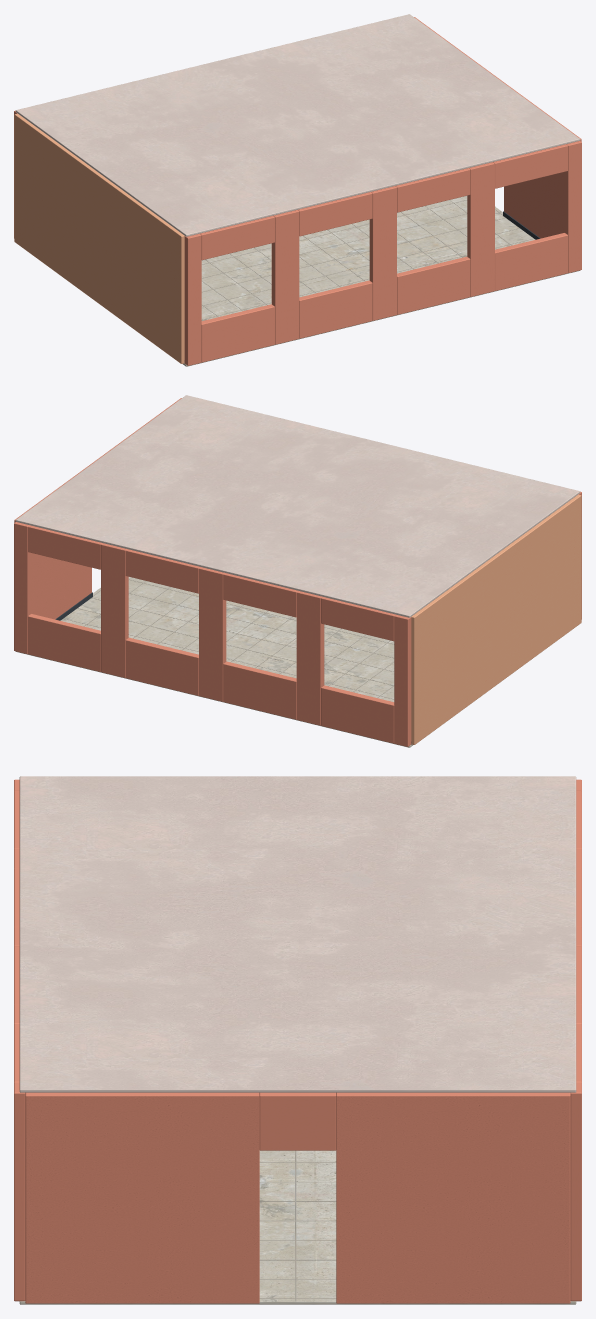
File: cl-floor-walls.glb
3 renders of one model, top to bottom at view 1: azimuth 30°, elevation 25°; view 2: azimuth 150°, elevation 25°; view 3: azimuth 270°, elevation 25°, orthographic. The views are drawn at different scales.
Parts seen in each view (by area): view 1: cl-floor-walls_ceiling, cl-floor-walls_wall_west, cl-floor-walls_floor, cl-floor-walls_wall_s_pier2, cl-floor-walls_wall_s_pier4, cl-floor-walls_wall_s_pier3, cl-floor-walls_wall_east_south, cl-floor-walls_wall_s_sill2, cl-floor-walls_wall_s_sill1, cl-floor-walls_wall_s_sill3, cl-floor-walls_wall_s_sill4, cl-floor-walls_wall_s_pier1 (+5 smaller); view 2: cl-floor-walls_ceiling, cl-floor-walls_wall_west, cl-floor-walls_floor, cl-floor-walls_wall_n_pier2, cl-floor-walls_wall_n_pier4, cl-floor-walls_wall_n_pier3, cl-floor-walls_wall_east_north, cl-floor-walls_wall_n_sill2, cl-floor-walls_wall_n_sill1, cl-floor-walls_wall_n_sill3, cl-floor-walls_wall_n_sill4, cl-floor-walls_wall_n_pier1 (+5 smaller); view 3: cl-floor-walls_ceiling, cl-floor-walls_wall_east_south, cl-floor-walls_wall_east_north, cl-floor-walls_floor, cl-floor-walls_wall_east_lintel, cl-floor-walls_wall_s_pier5, cl-floor-walls_wall_n_pier5.
Boxes of the visible parts, x1,y1,x2,y2 form: cl-floor-walls_ceiling: (15, 14, 580, 236); cl-floor-walls_wall_west: (14, 113, 184, 363); cl-floor-walls_floor: (183, 196, 579, 366); cl-floor-walls_wall_s_pier2: (271, 210, 299, 344); cl-floor-walls_wall_s_pier4: (467, 162, 494, 296); cl-floor-walls_wall_s_pier3: (369, 186, 396, 320); cl-floor-walls_wall_east_south: (504, 86, 581, 238); cl-floor-walls_wall_s_sill2: (299, 280, 372, 338); cl-floor-walls_wall_s_sill1: (201, 304, 274, 362); cl-floor-walls_wall_s_sill3: (397, 256, 470, 314); cl-floor-walls_wall_s_sill4: (495, 233, 567, 290); cl-floor-walls_wall_s_pier1: (184, 233, 201, 365); cl-floor-walls_ceiling: (15, 395, 580, 617); cl-floor-walls_wall_west: (411, 494, 581, 744); cl-floor-walls_floor: (16, 577, 412, 747); cl-floor-walls_wall_n_pier2: (296, 591, 324, 725); cl-floor-walls_wall_n_pier4: (101, 543, 128, 677); cl-floor-walls_wall_n_pier3: (199, 567, 226, 701); cl-floor-walls_wall_east_north: (14, 467, 91, 619); cl-floor-walls_wall_n_sill2: (223, 661, 296, 719); cl-floor-walls_wall_n_sill1: (321, 685, 394, 743); cl-floor-walls_wall_n_sill3: (125, 637, 198, 695); cl-floor-walls_wall_n_sill4: (28, 614, 100, 671); cl-floor-walls_wall_n_pier1: (394, 614, 411, 746); cl-floor-walls_ceiling: (19, 776, 576, 1092); cl-floor-walls_wall_east_south: (25, 1092, 259, 1303); cl-floor-walls_wall_east_north: (336, 1092, 570, 1303); cl-floor-walls_floor: (19, 1150, 576, 1304); cl-floor-walls_wall_east_lintel: (259, 1092, 336, 1150); cl-floor-walls_wall_s_pier5: (14, 1082, 25, 1301); cl-floor-walls_wall_n_pier5: (570, 1082, 581, 1301).
Bounding box in the file's own units: 9.83 × 3.1 × 7.41.
6 materials, 6 textured.
